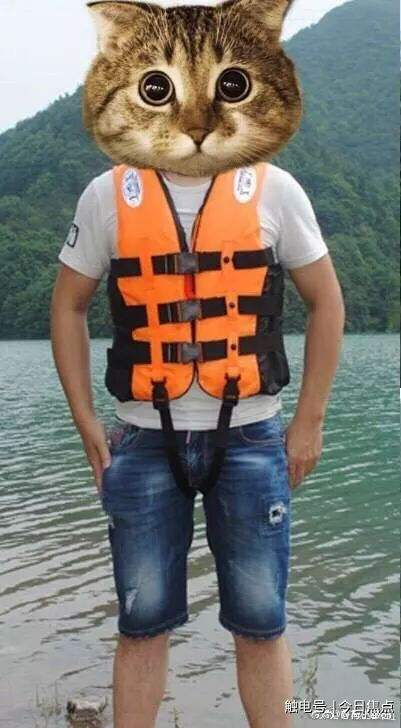reflective_clothes: (86, 128, 297, 428)
